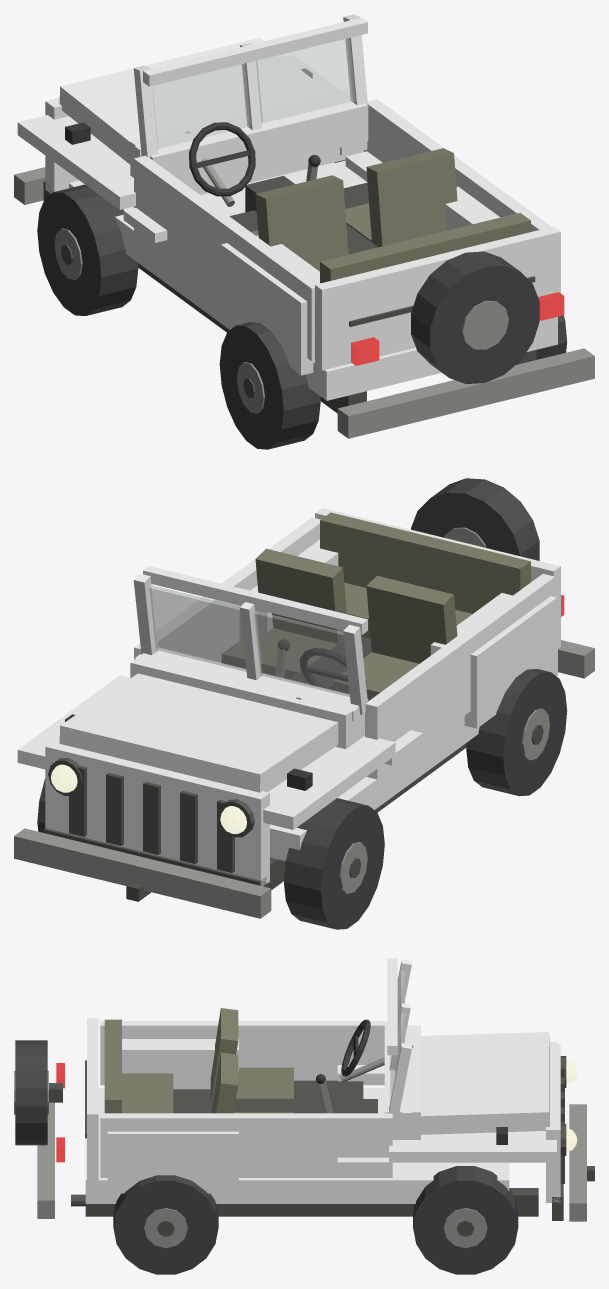
Rendered from jeep.glb.
The picture shows the model from 3 angles, top to bottom: view 1: azimuth 30°, elevation 25°; view 2: azimuth 150°, elevation 25°; view 3: azimuth 270°, elevation 25°; orthographic projection. The views are drawn at different scales.
Visible parts, largest first — view 1: Hood, RearPanel, SpareTire, TubWall_L, DashSlab, FloorTub, Tire_FL, RearBumper, Tire_RL, SeatBack_P, WheelBox_L, SeatBack_D (+27 smaller); view 2: Hood, GrillePanel, BenchBack, TubWall_L, Tire_FL, FrontBumper, Tire_RL, WheelBox_L, DashSlab, SpareTire, SeatBack_D, ShieldGlass_R (+31 smaller); view 3: Hood, TubWall_R, TubWall_L, FloorTub, Tire_FR, WheelBox_R, Tire_RR, FenderF_R, WheelBox_L, ChassisR, SpareTire, DashSlab (+22 smaller).
Part boxes in pixels (bbox=[...]): Hood: bbox=[59, 37, 329, 164]; RearPanel: bbox=[315, 226, 560, 370]; SpareTire: bbox=[411, 251, 539, 384]; TubWall_L: bbox=[134, 155, 320, 360]; DashSlab: bbox=[130, 89, 368, 184]; FloorTub: bbox=[69, 160, 557, 400]; Tire_FL: bbox=[37, 184, 138, 315]; RearBumper: bbox=[337, 348, 594, 438]; Tire_RL: bbox=[219, 322, 320, 449]; SeatBack_P: bbox=[366, 148, 457, 247]; WheelBox_L: bbox=[221, 235, 319, 375]; SeatBack_D: bbox=[255, 175, 348, 271]; Hood: bbox=[59, 673, 338, 792]; GrillePanel: bbox=[45, 740, 269, 886]; BenchBack: bbox=[320, 512, 530, 613]; TubWall_L: bbox=[365, 574, 555, 779]; Tire_FL: bbox=[284, 798, 384, 929]; FrontBumper: bbox=[14, 828, 271, 918]; Tire_RL: bbox=[466, 669, 567, 796]; WheelBox_L: bbox=[430, 593, 556, 728]; DashSlab: bbox=[130, 648, 368, 748]; SpareTire: bbox=[411, 478, 539, 560]; SeatBack_D: bbox=[366, 575, 457, 663]; ShieldGlass_R: bbox=[149, 585, 246, 671]; Hood: bbox=[421, 1032, 549, 1134]; TubWall_R: bbox=[100, 1113, 392, 1177]; TubWall_L: bbox=[100, 1021, 387, 1085]; FloorTub: bbox=[85, 1087, 509, 1203]; Tire_FR: bbox=[413, 1166, 518, 1274]; WheelBox_R: bbox=[107, 1131, 238, 1193]; Tire_RR: bbox=[113, 1175, 218, 1274]; FenderF_R: bbox=[389, 1131, 556, 1162]; WheelBox_L: bbox=[122, 1039, 238, 1089]; ChassisR: bbox=[85, 1188, 538, 1216]; SpareTire: bbox=[15, 1040, 47, 1145]; DashSlab: bbox=[384, 1025, 420, 1139].
Bounding box in the file's own units: 1.88 × 1.63 × 3.97.
